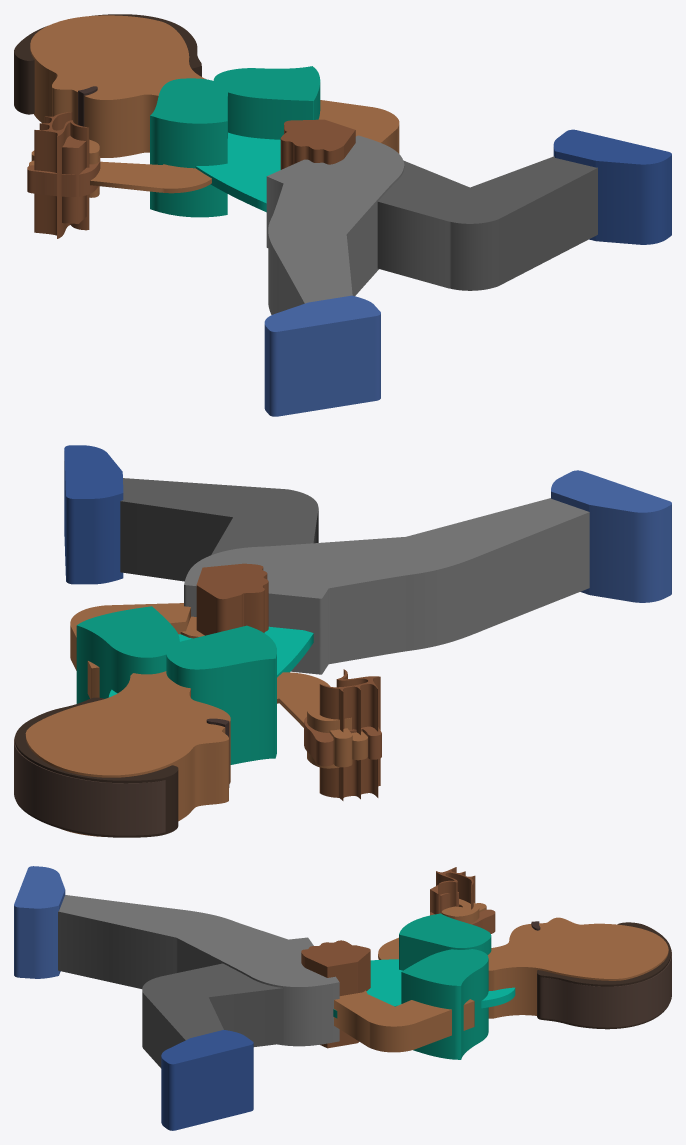
The model's file is emoji_u1f3c3_1f3fe_200d_2642.glb.
The picture shows the model from 3 angles, top to bottom: view 1: azimuth 30°, elevation 25°; view 2: azimuth 150°, elevation 25°; view 3: azimuth 270°, elevation 25°; orthographic projection. The views are drawn at different scales.
Parts seen in each view (by area): view 1: emoji_u1f3c3_1f3fe_200d_2642; view 2: emoji_u1f3c3_1f3fe_200d_2642; view 3: emoji_u1f3c3_1f3fe_200d_2642.
Part boxes in pixels (x1,y1,x2,y2): emoji_u1f3c3_1f3fe_200d_2642: (14,14,671,416); emoji_u1f3c3_1f3fe_200d_2642: (14,445,671,837); emoji_u1f3c3_1f3fe_200d_2642: (14,866,671,1130).
Bounding box in the file's own units: 0.0228 × 0.0046 × 0.0322.
